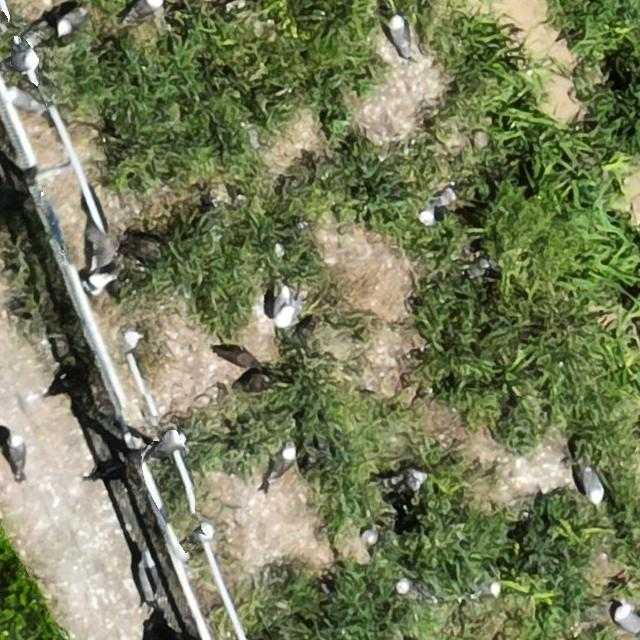umineko: (376, 469, 427, 496), (272, 281, 298, 327), (422, 192, 450, 220), (390, 15, 410, 53), (582, 468, 603, 504), (614, 607, 640, 636), (8, 89, 38, 111), (58, 9, 84, 34), (9, 436, 25, 474), (273, 444, 293, 474), (128, 1, 161, 18), (158, 431, 184, 452), (90, 272, 114, 294), (123, 330, 139, 353)
